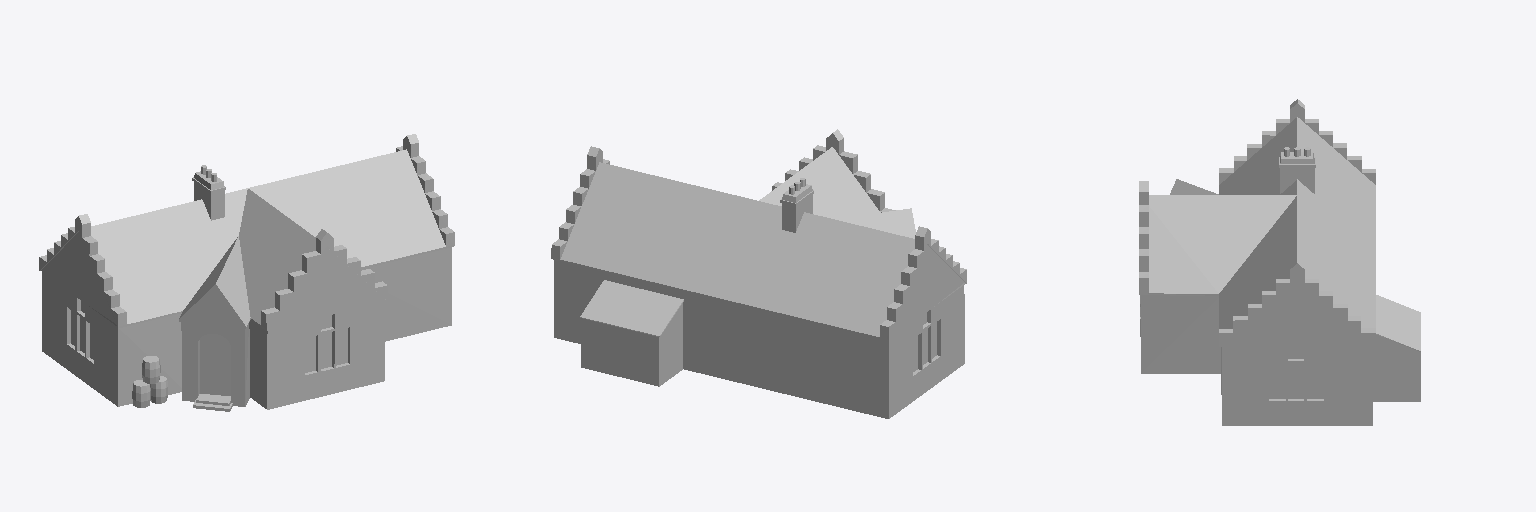
Rendered from house.obj.
3 renders of one model, left to right at view 1: azimuth 30°, elevation 25°; view 2: azimuth 150°, elevation 25°; view 3: azimuth 270°, elevation 25°, orthographic.
Visible parts, largest first — view 1: house_obj; view 2: house_obj; view 3: house_obj.
Boxes of the visible parts, x1,y1,x2,y2 form: house_obj: [39, 134, 454, 411]; house_obj: [551, 129, 966, 418]; house_obj: [1139, 99, 1420, 425].
Size of the model in its own units: 185 by 93.11 by 134.